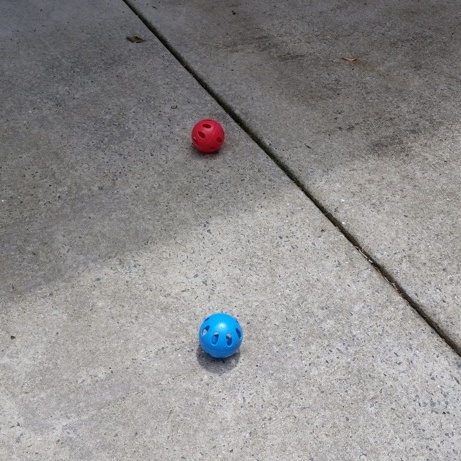blueball: (195, 307, 247, 363)
redball: (187, 115, 228, 156)
